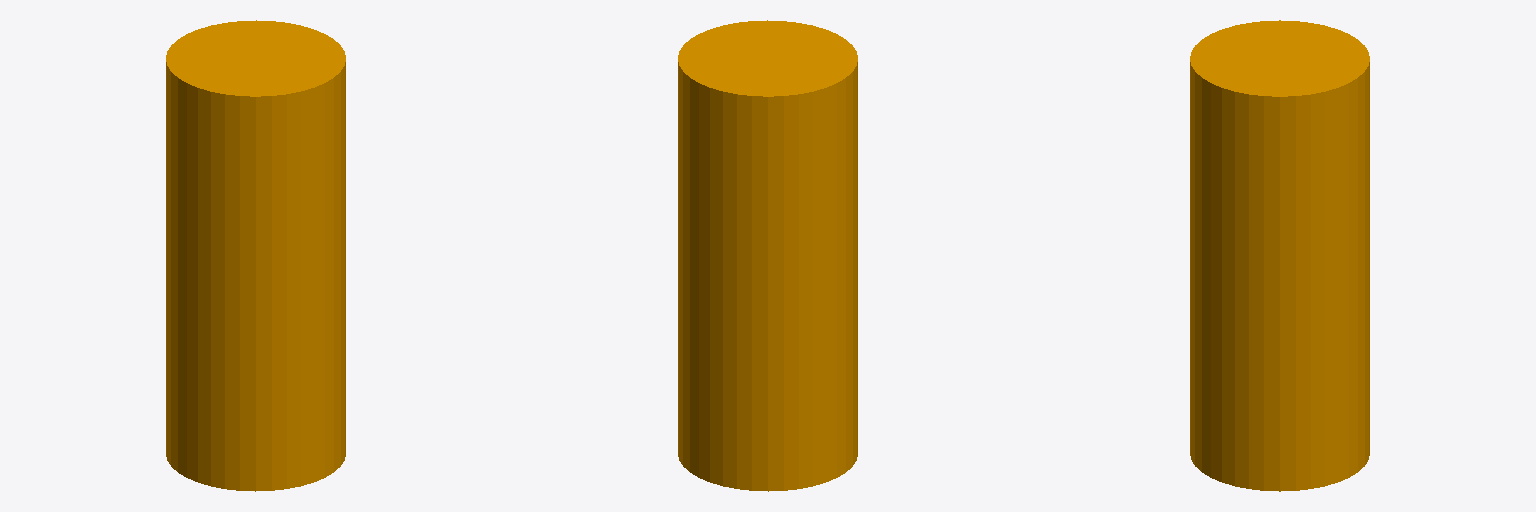
URDF robot description (model.urdf):
<?xml version="0.0" ?>
<robot name="model.urdf">
  <link name="baseLink">
    <contact>
      <friction_anchor/>
      <lateral_friction value="1.0"/>
      <spinning_friction value="0.03"/>
      <rolling_friction value="0.0"/>
      <contact_cfm value="0.1"/>
      <contact_erp value="1.0"/>
    </contact>
    <inertial>
       <origin rpy="0 0 0" xyz="0 0 0.01"/>
       <mass value=".100"/>
       <inertia ixx="1e-3" ixy="0" ixz="0" iyy="1e-3" iyz="0" izz="1e-3"/>
    </inertial>
    <visual>
      <geometry>
        <mesh filename="mesh.obj" scale="1 1 1"/>
      </geometry>
    </visual>
    <collision>
      <geometry>
    	 	<mesh filename="mesh.obj" scale="1 1 1"/>
      </geometry>
    </collision>
  </link>
</robot>

--- Render facts (derived) ---
Views: 3 orthographic renders of the robot side by side, from view 1: azimuth 30°, elevation 25°; view 2: azimuth 150°, elevation 25°; view 3: azimuth 270°, elevation 25°.
Model model.urdf with 1 links and 0 joints (none), rooted at baseLink, posed all joints at 0.
Visible links, largest first — view 1: baseLink; view 2: baseLink; view 3: baseLink.
Boxes of the visible links, left/top/right/bottom form: baseLink: left=166, top=20, right=345, bottom=491; baseLink: left=678, top=20, right=857, bottom=491; baseLink: left=1190, top=20, right=1369, bottom=491.
Bounding box of the posed robot: 0.0408 × 0.0407 × 0.0985 m (x, y, z).
Meshes: 1 distinct files referenced, 1 mesh visuals loaded (1 OBJ).